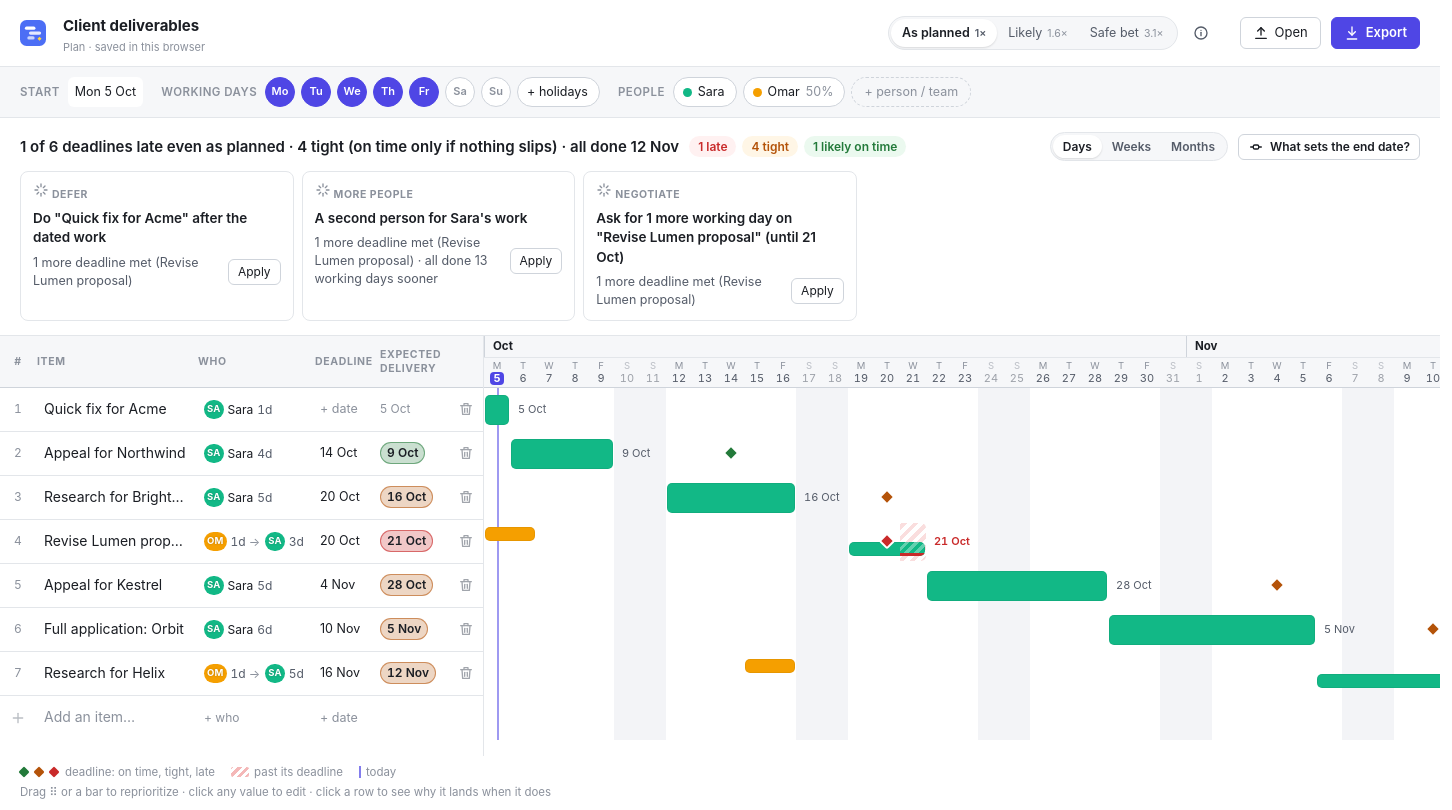
Scenario: the item inspector and day chips › shows the facts, why, and compact settings; dependencies are chips you can add and remove
Click the element with class "status" showing "16 Oct". click: (407, 497)
box: [380, 486, 433, 508]
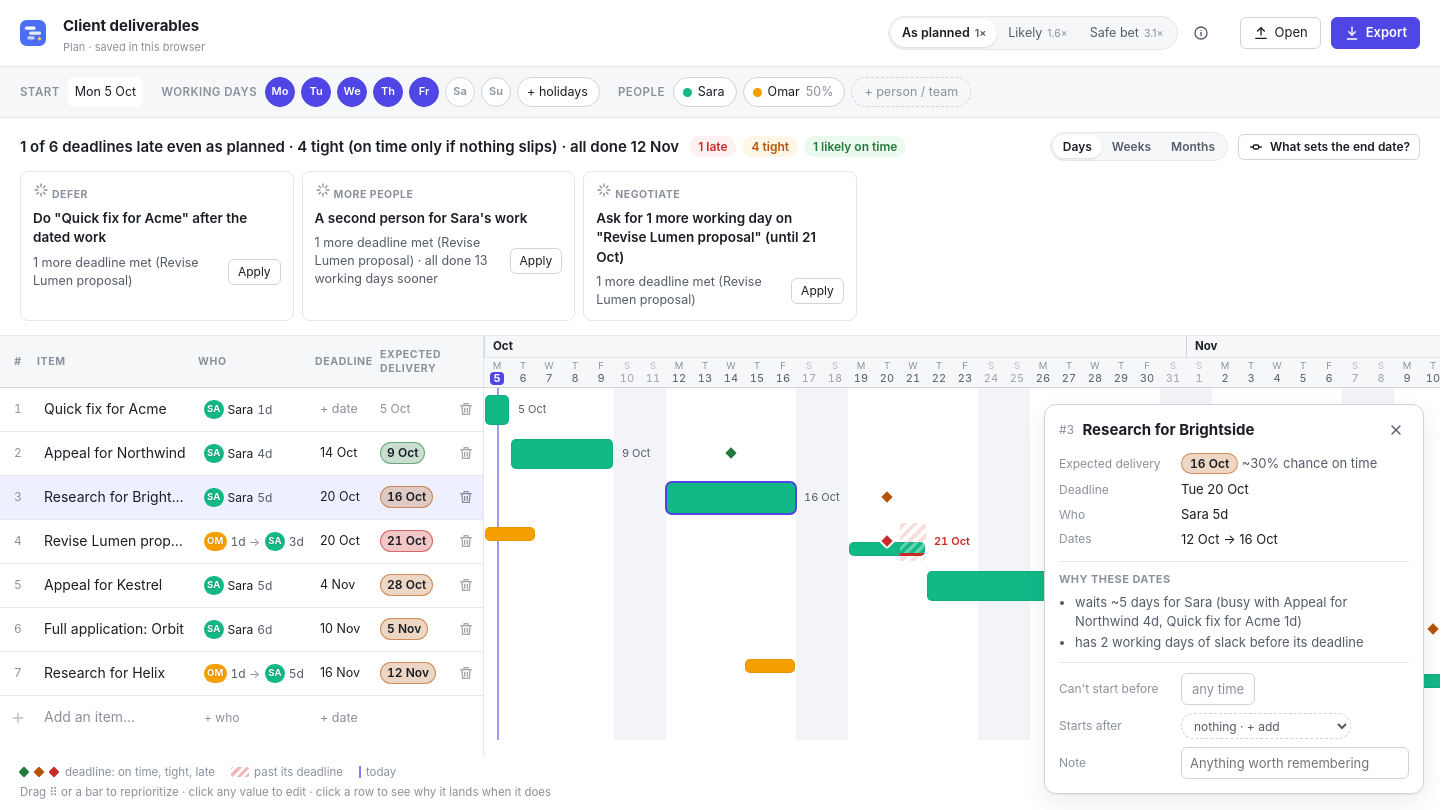
Now the heading "Research for Brightside" is shown, box [1082, 420, 1254, 439]
Select "Quick fix for Acme" in the dropdown with class "add-dep". click: (1266, 726)
box: [1181, 713, 1351, 739]
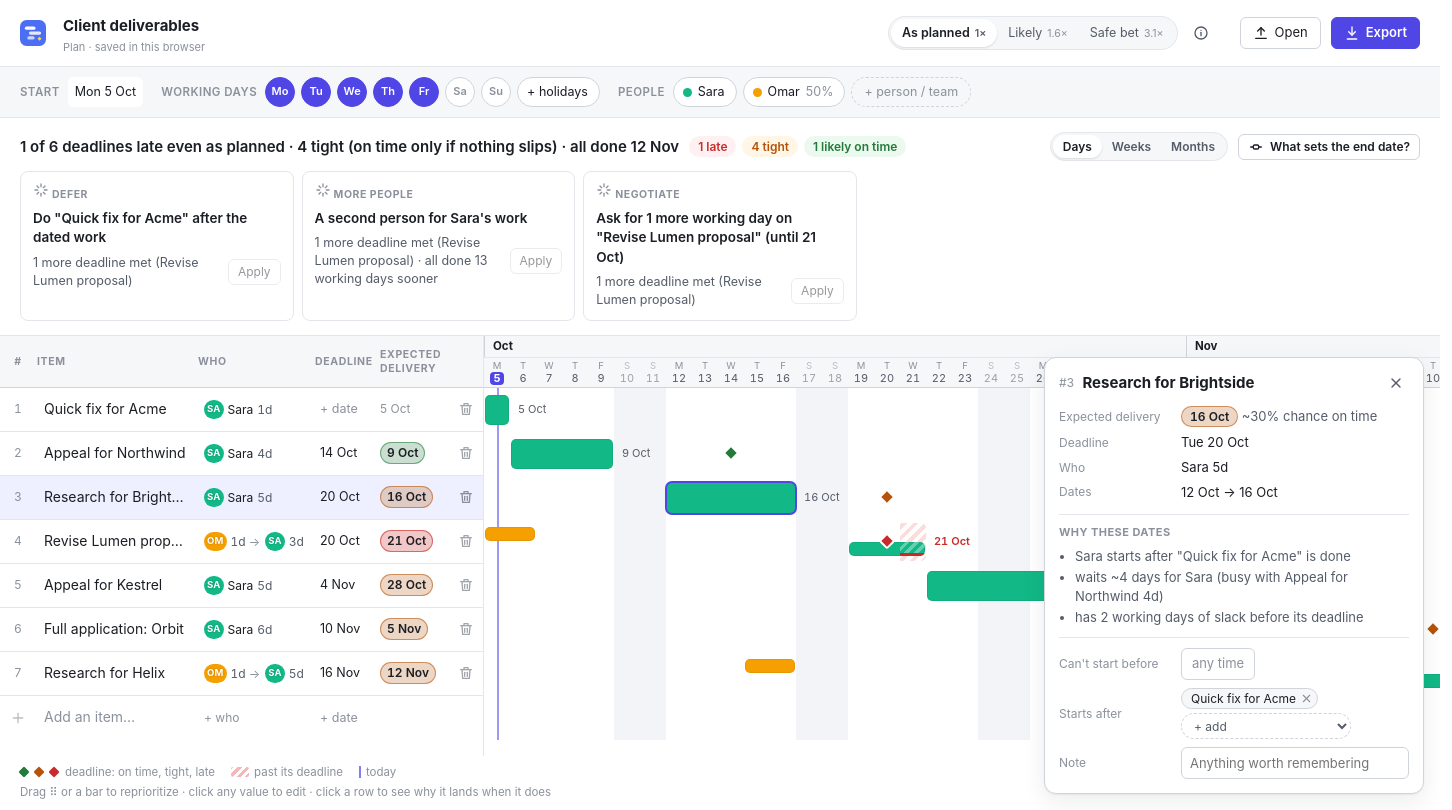
Now the element with class "dep-chip" reads "Quick fix for Acme", box [1191, 691, 1296, 706]
Click the button named "Remove: starts after Quick fix for Acme". click: (1307, 698)
box: [1298, 690, 1315, 707]
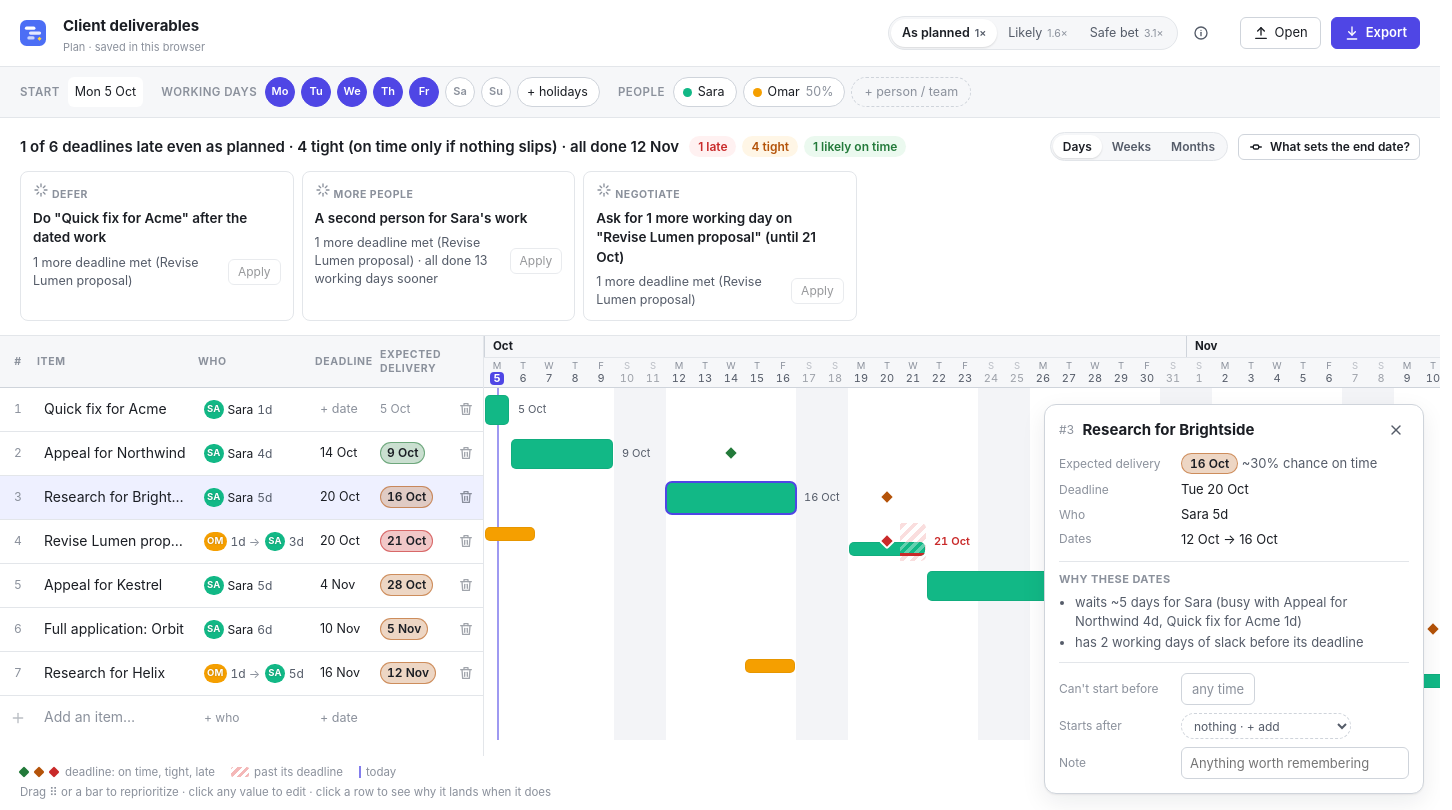
Now the element with class "dep-chip" is gone
Click the button named "Close details". click: (1396, 430)
box: [1383, 417, 1409, 443]
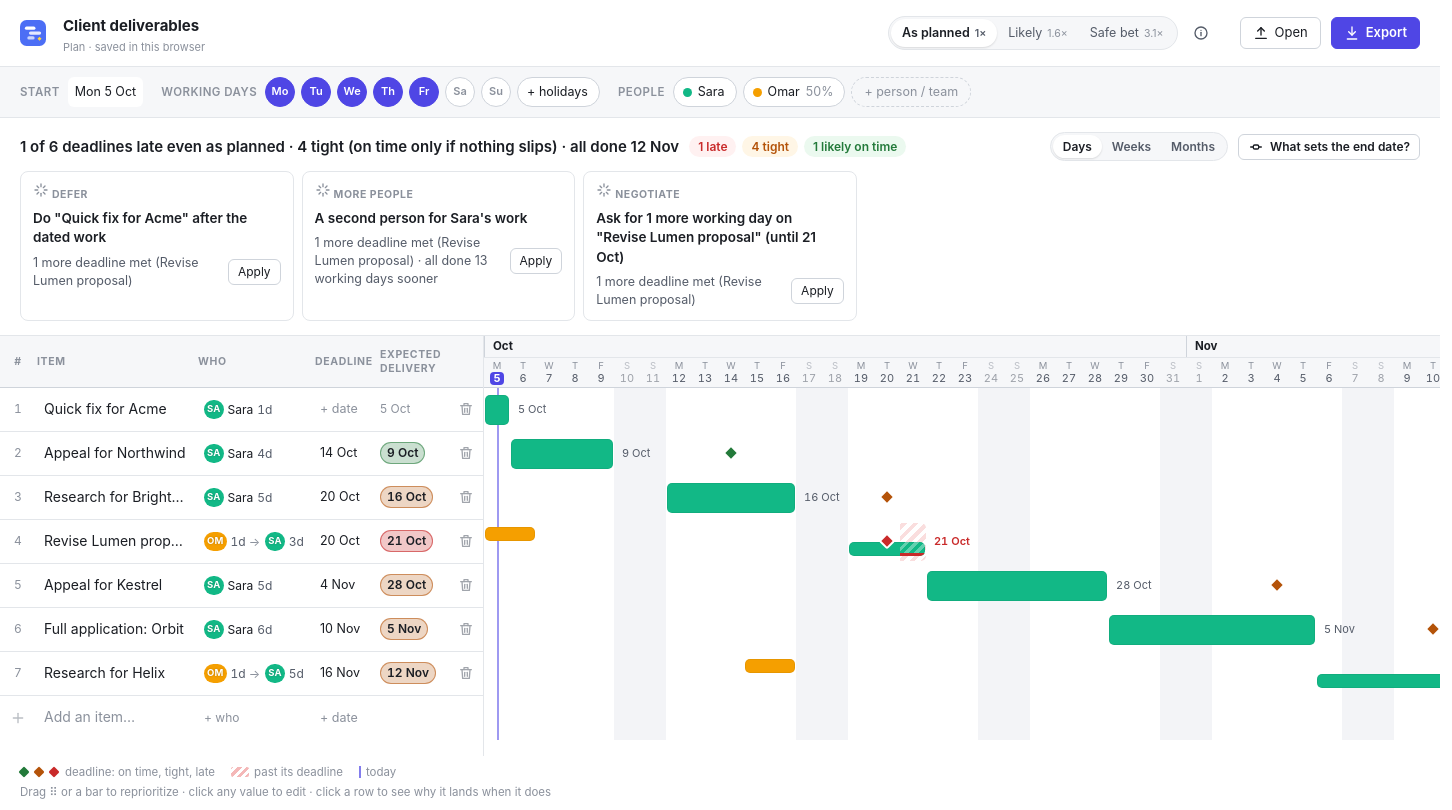
Now the button with class "details" is gone
